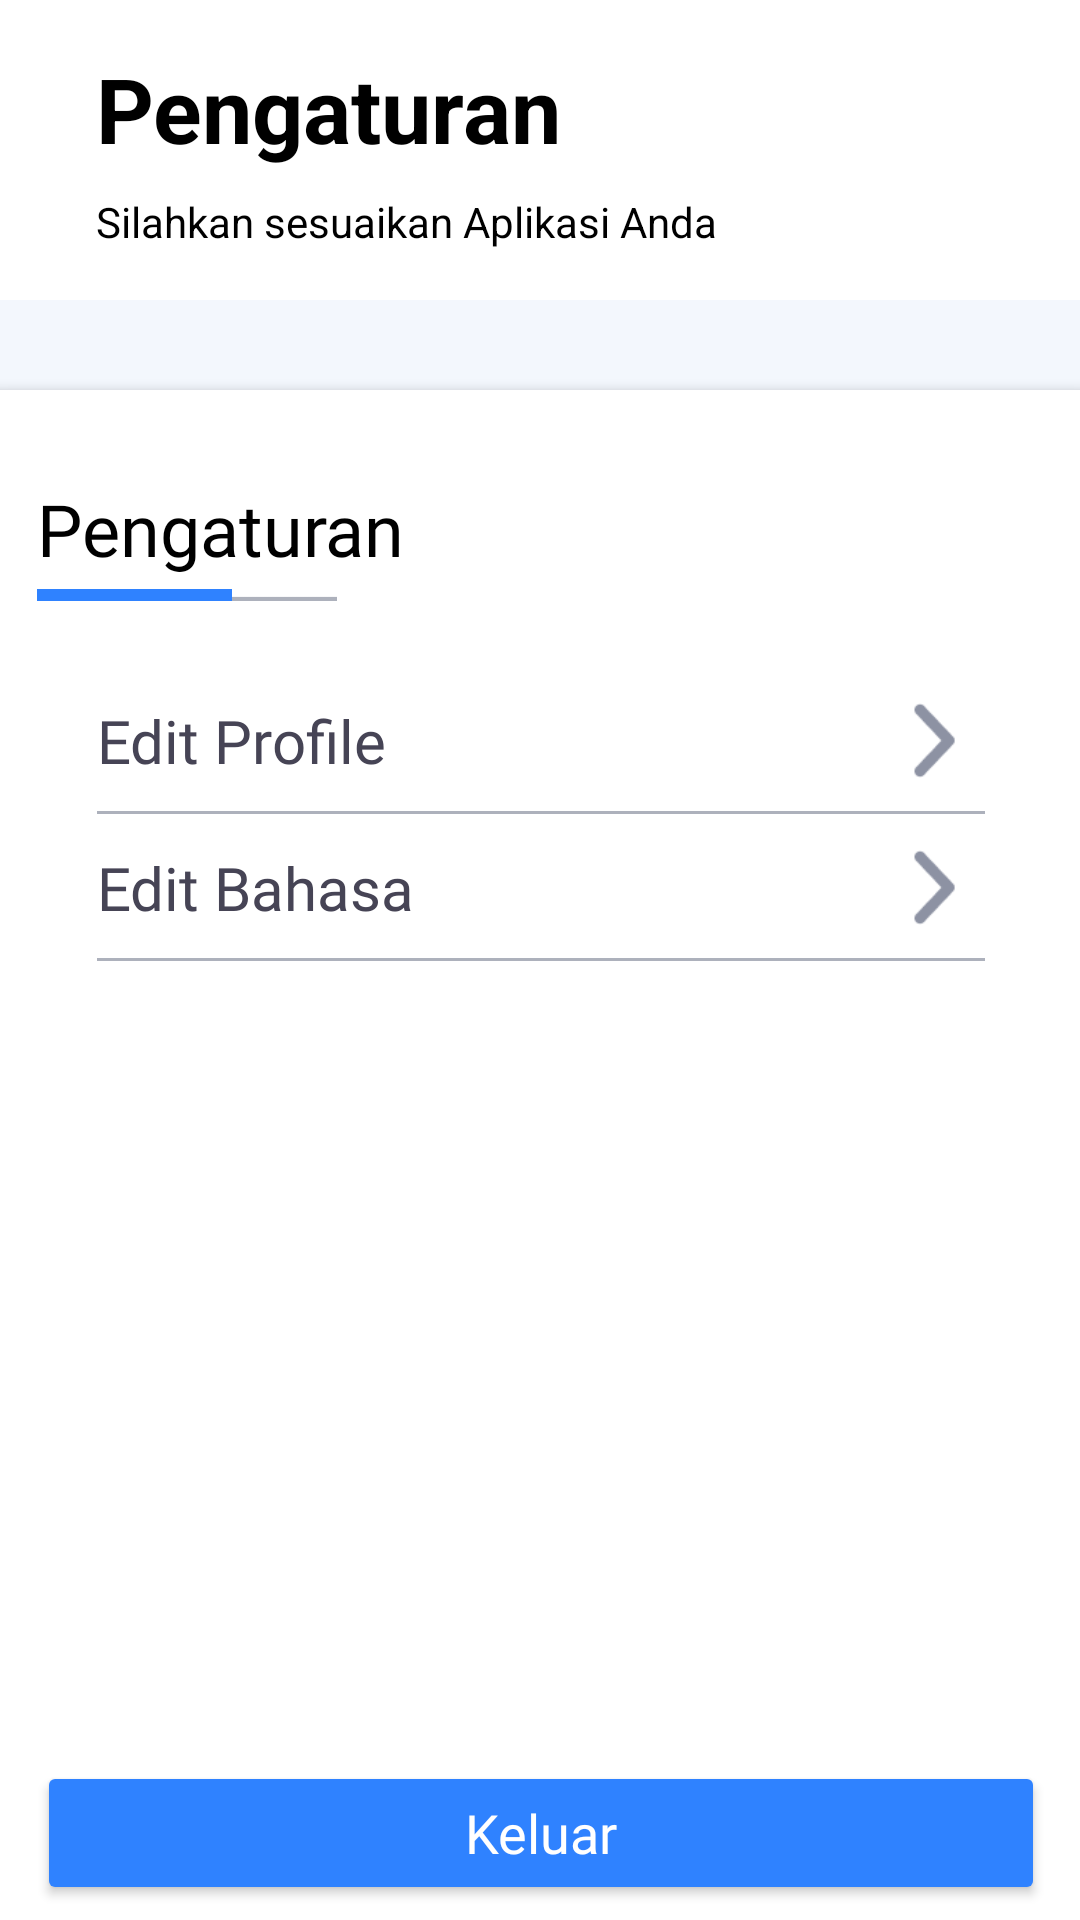

Icon click points for this 1080*1920 phone screenshot, format (x=x, y=y):
arrow silver: (x=934, y=740), (x=934, y=887)
